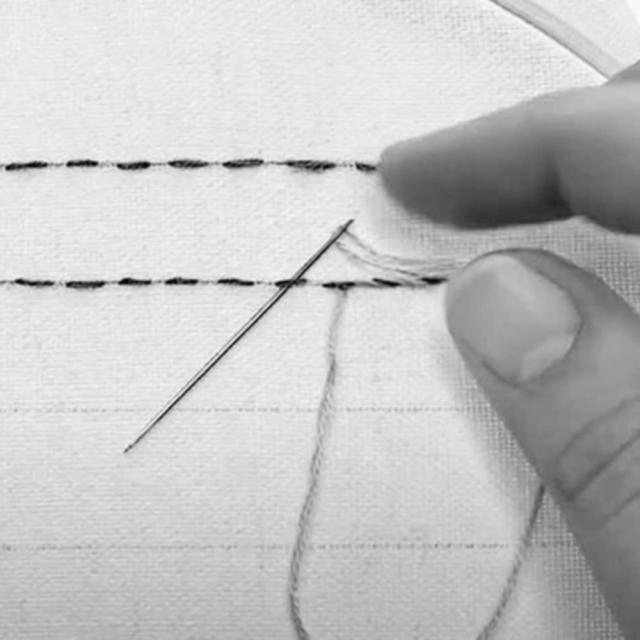stitch: (285, 160, 336, 171), (5, 161, 49, 171), (222, 159, 264, 169), (168, 159, 209, 168), (14, 278, 55, 287), (65, 280, 105, 289), (116, 160, 150, 170), (275, 278, 308, 288), (65, 159, 99, 168), (216, 278, 254, 286), (322, 281, 356, 289), (371, 278, 400, 287), (355, 161, 378, 172), (165, 278, 199, 285), (118, 278, 151, 285), (421, 278, 446, 285)
